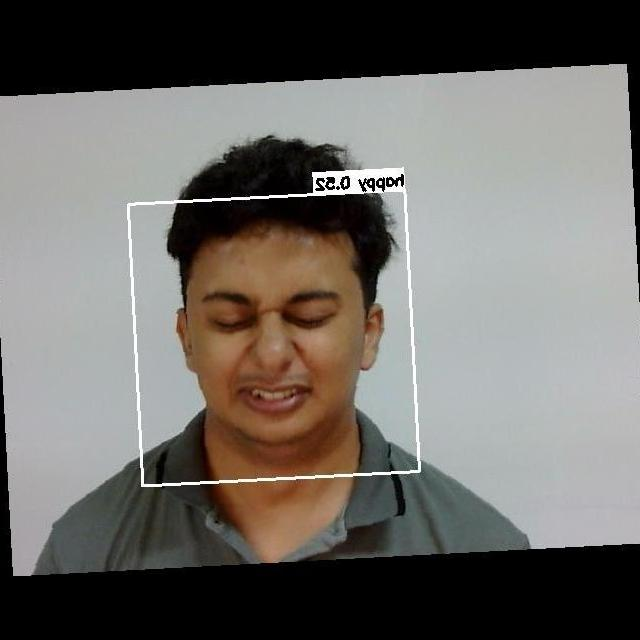Disgust: (181, 251, 366, 421)
